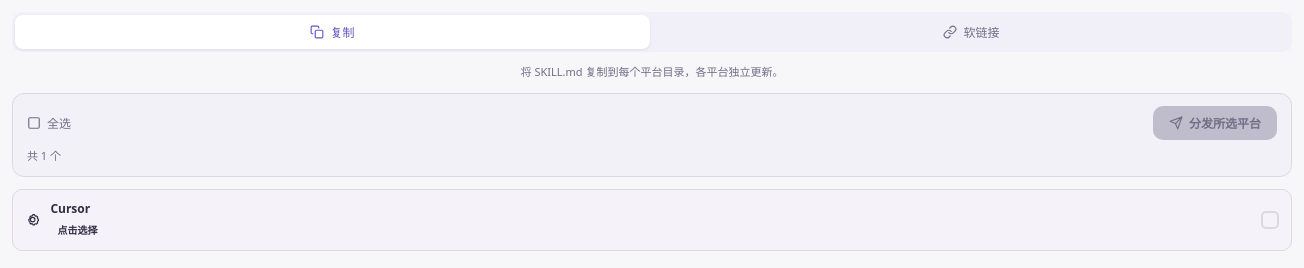
Test: GlobalDistPanel › install button enabled when platforms selected
Step 1. Click the element showing "Cursor 点击选择" → (652, 220), box 12,189 -> 1292,251
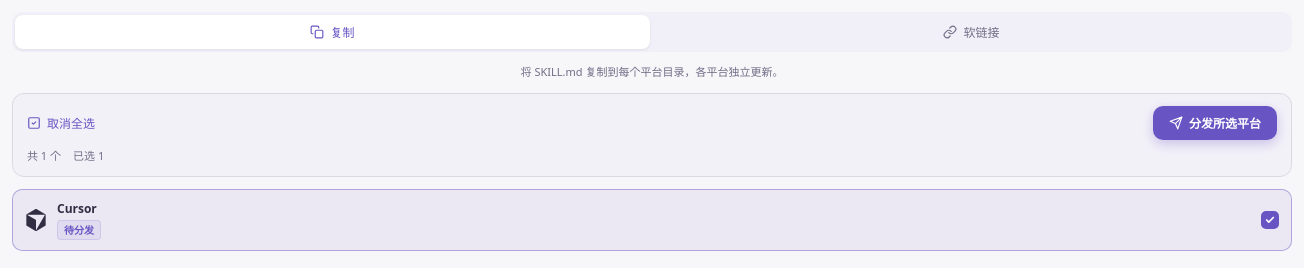
Check: the button with class "install-all-btn" is enabled, box 1153,106 -> 1277,140
